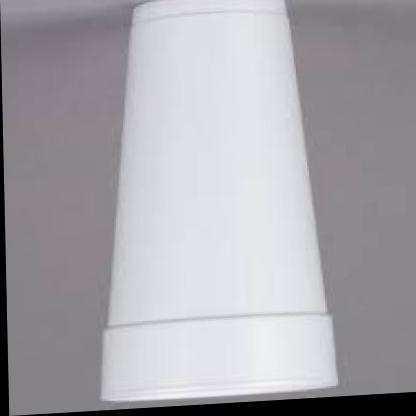Plastic: (78, 0, 348, 407)
